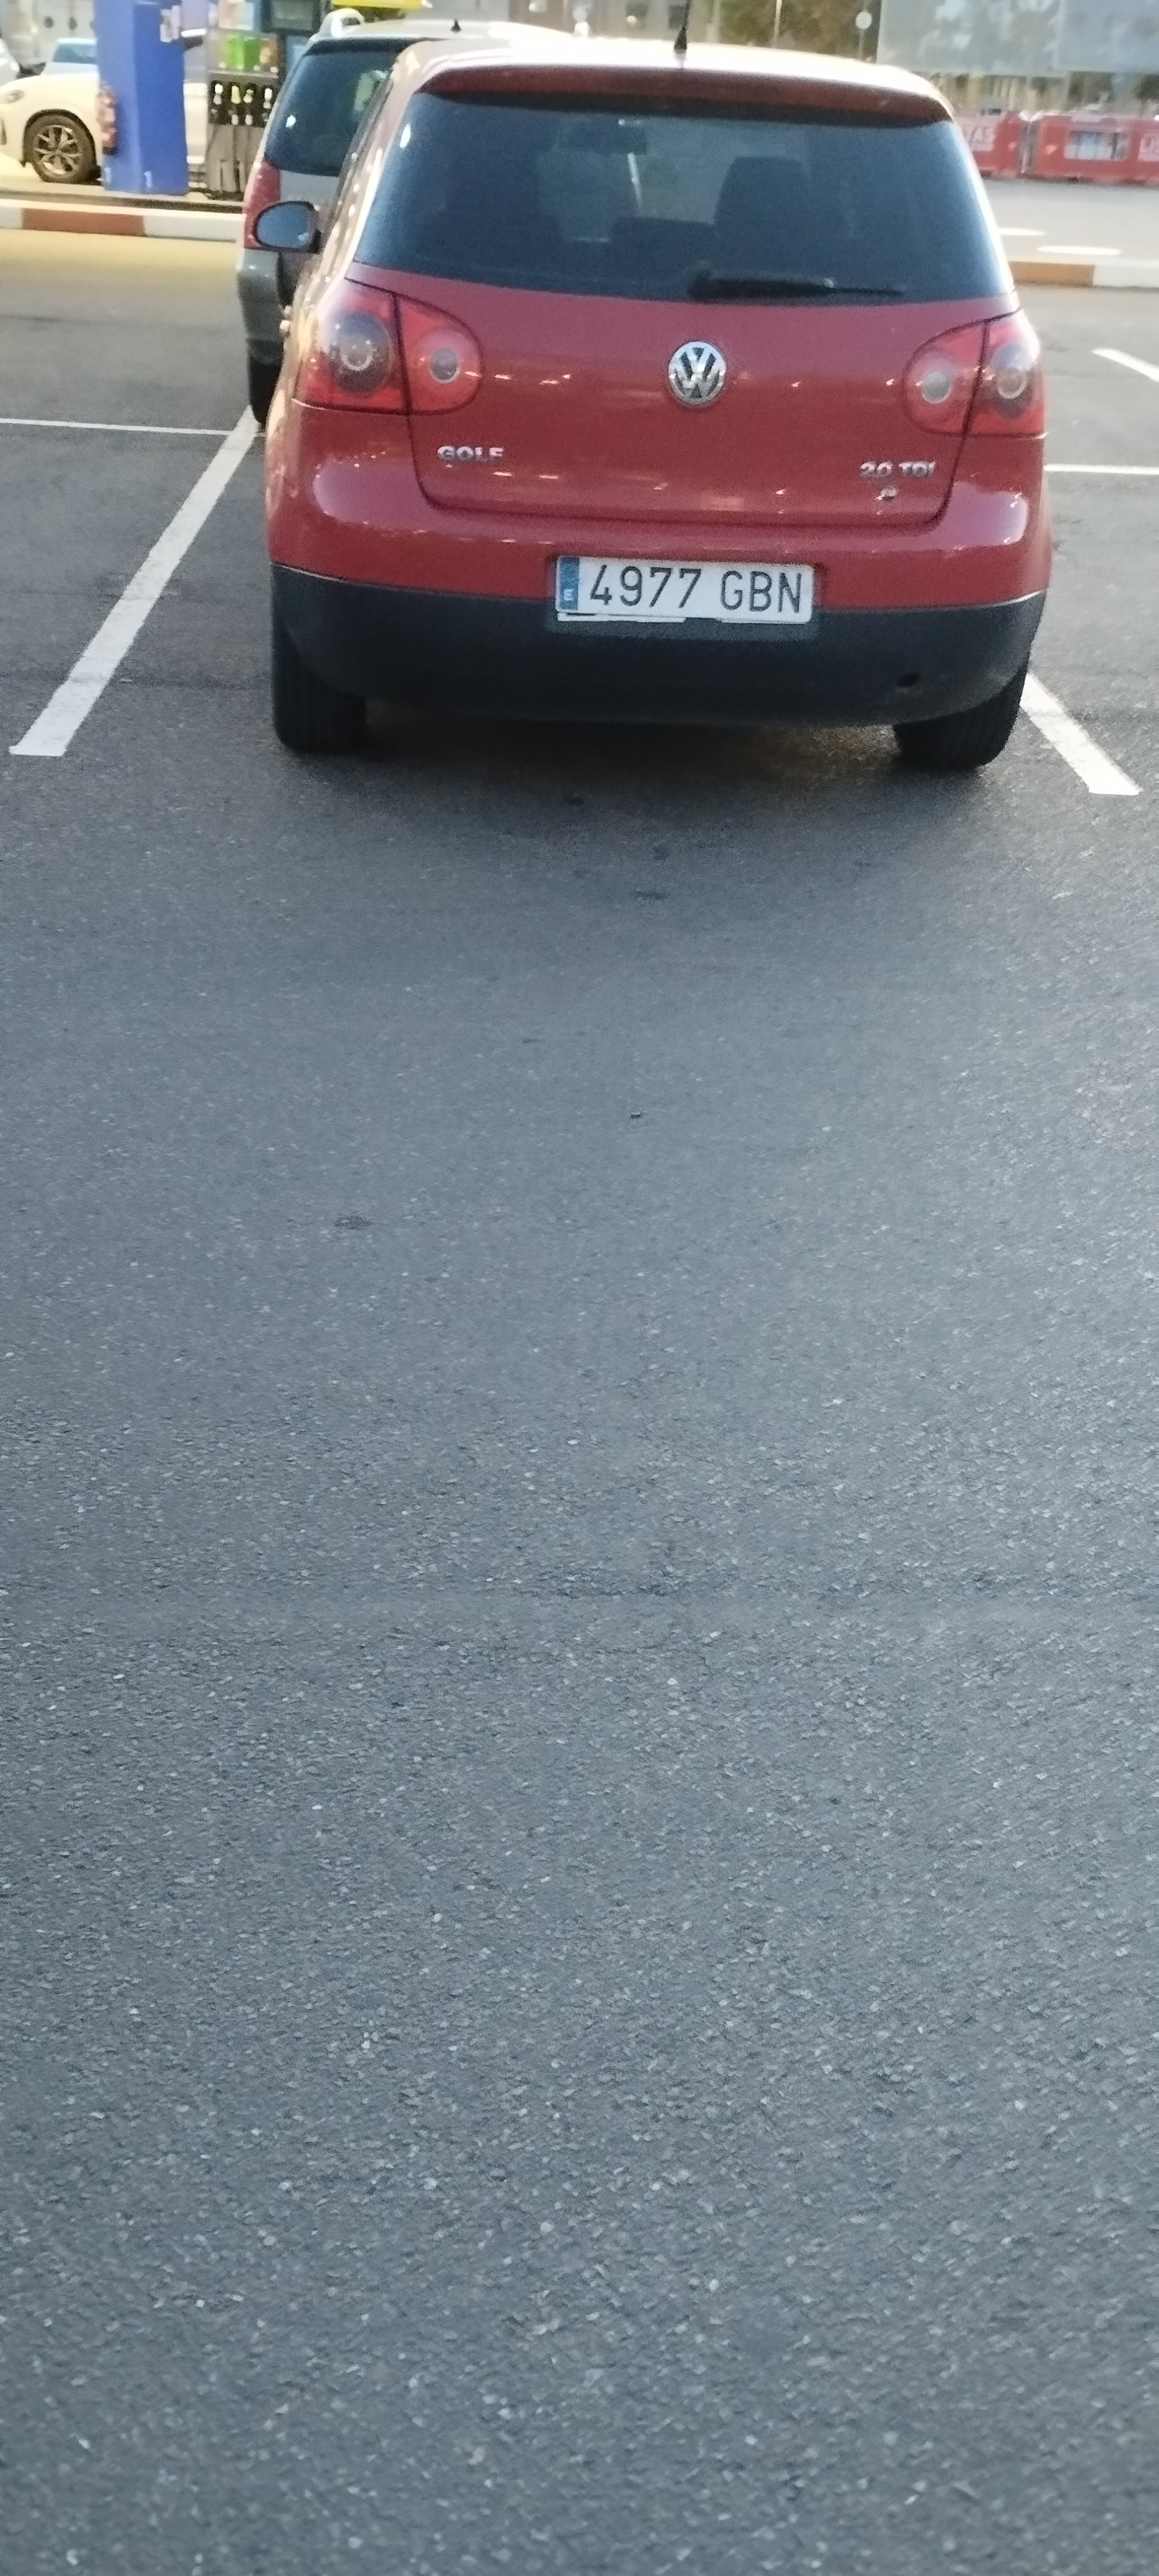Car: (267, 40, 1014, 772)
Plate: (552, 556, 805, 624)
